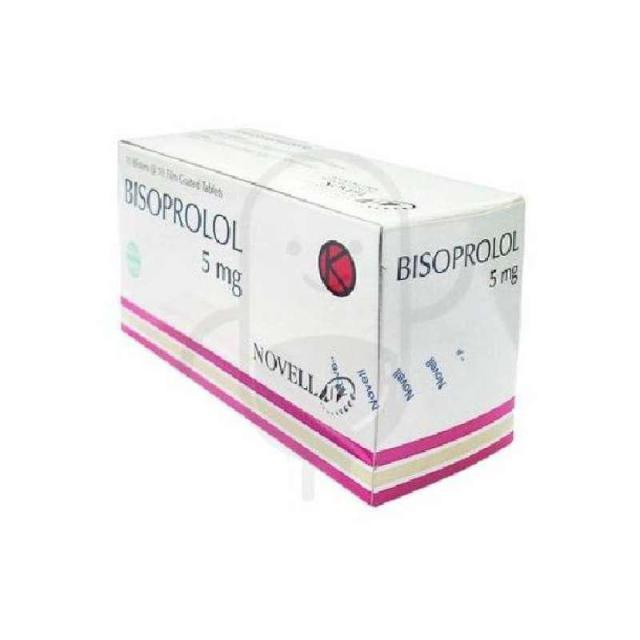drug-name: (120, 173, 246, 253)
